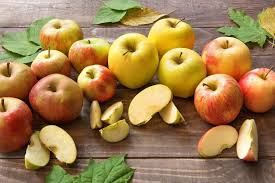apple: (193, 73, 245, 125), (109, 34, 159, 84), (30, 74, 82, 120), (202, 36, 255, 77), (158, 49, 202, 93), (1, 96, 35, 152), (149, 16, 195, 55), (237, 67, 274, 111), (42, 17, 82, 52), (77, 67, 114, 104), (70, 39, 108, 71), (2, 63, 33, 98), (32, 53, 68, 77)
